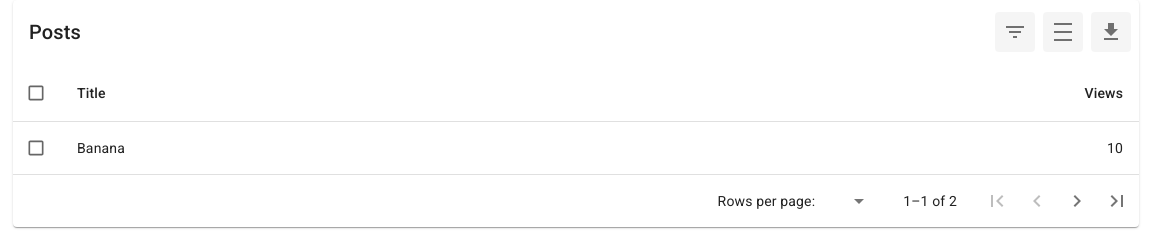
Test: DataTable › paginates client-side rows
Expected: the column heading "Banana" is shown, [61,122,600,175]
Expected: the text "Apple" is not shown
Click the button named "next page": [1077, 201] box [1057,181,1097,221]
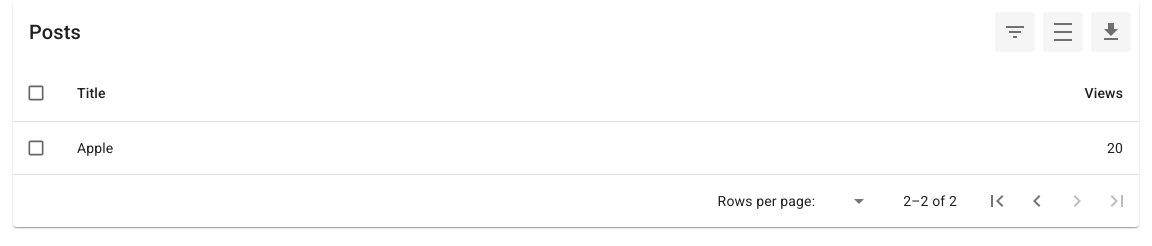
Expected: the column heading "Apple" is shown, [61,122,600,175]
Expected: the checkbox "Banana" is gone
